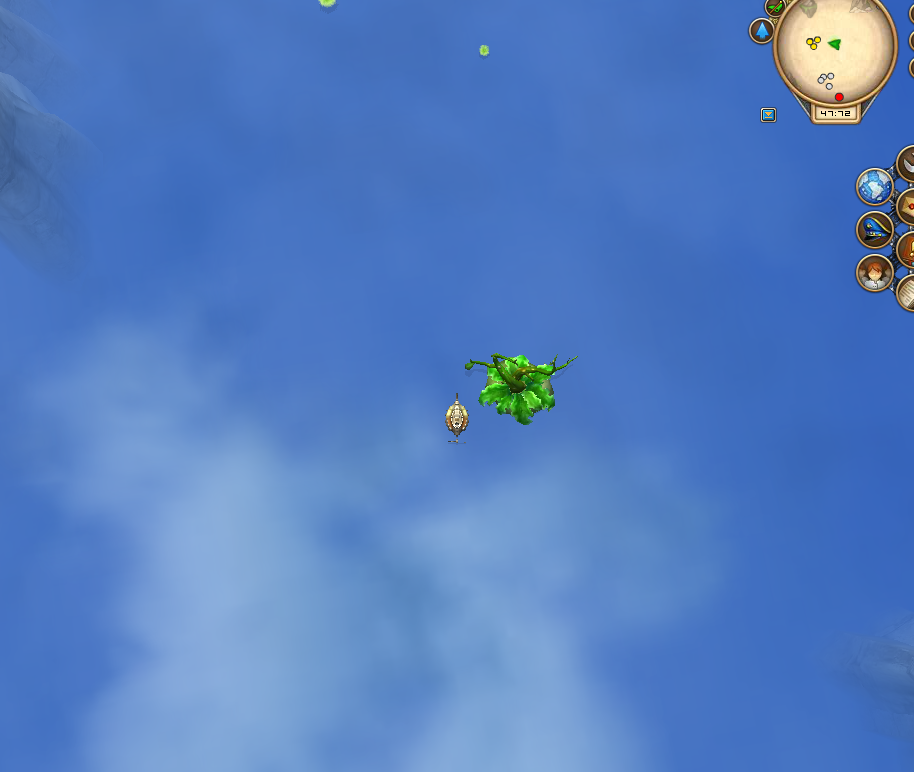dandelion-empty: (460, 344, 583, 424)
fluff: (315, 0, 340, 10), (477, 44, 490, 59)
